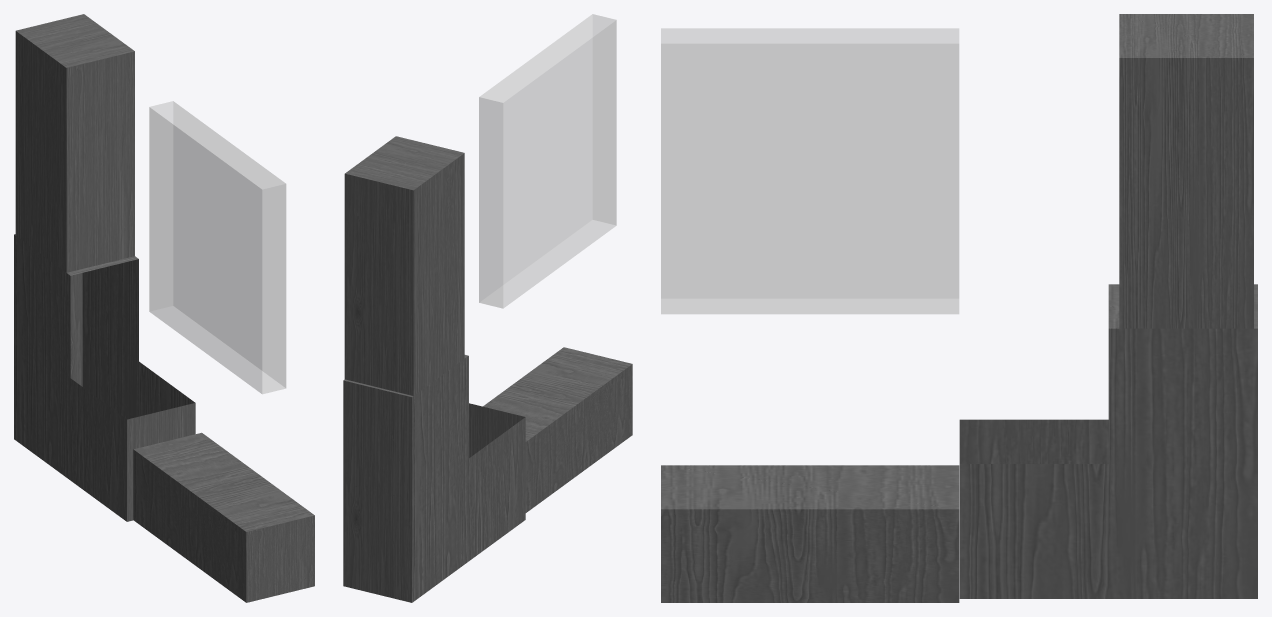
Rendered from corner_profile3.gltf.
3 renders of one model, left to right at view 1: azimuth 30°, elevation 25°; view 2: azimuth 150°, elevation 25°; view 3: azimuth 270°, elevation 25°, orthographic. The views are drawn at different scales.
Visible parts, largest first — view 1: Frame Corner, Glass, Frame Left Right, Frame Top Bottom; view 2: Frame Corner, Glass, Frame Left Right, Frame Top Bottom; view 3: Glass, Frame Corner, Frame Left Right, Frame Top Bottom.
Part boxes in pixels (left/top/right/bottom): Frame Corner: left=14, top=234, right=195, bottom=521; Glass: left=149, top=101, right=286, bottom=394; Frame Left Right: left=15, top=14, right=134, bottom=272; Frame Top Bottom: left=133, top=432, right=314, bottom=602; Frame Corner: left=343, top=355, right=525, bottom=602; Glass: left=479, top=14, right=616, bottom=308; Frame Left Right: left=344, top=136, right=464, bottom=395; Frame Top Bottom: left=483, top=347, right=632, bottom=512; Glass: left=661, top=28, right=959, bottom=314; Frame Corner: left=959, top=284, right=1257, bottom=598; Frame Left Right: left=1119, top=14, right=1253, bottom=328; Frame Top Bottom: left=661, top=465, right=959, bottom=602.
Bounding box in the file's own units: 1.17 × 6.13 × 6.13.
2 materials, 1 textured.
